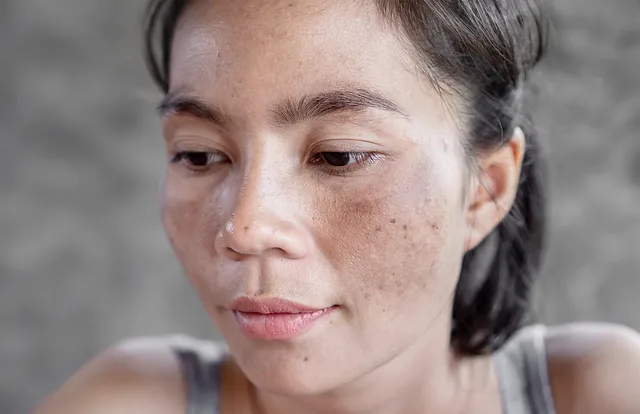Flek Hitam: (336, 190, 455, 273)
